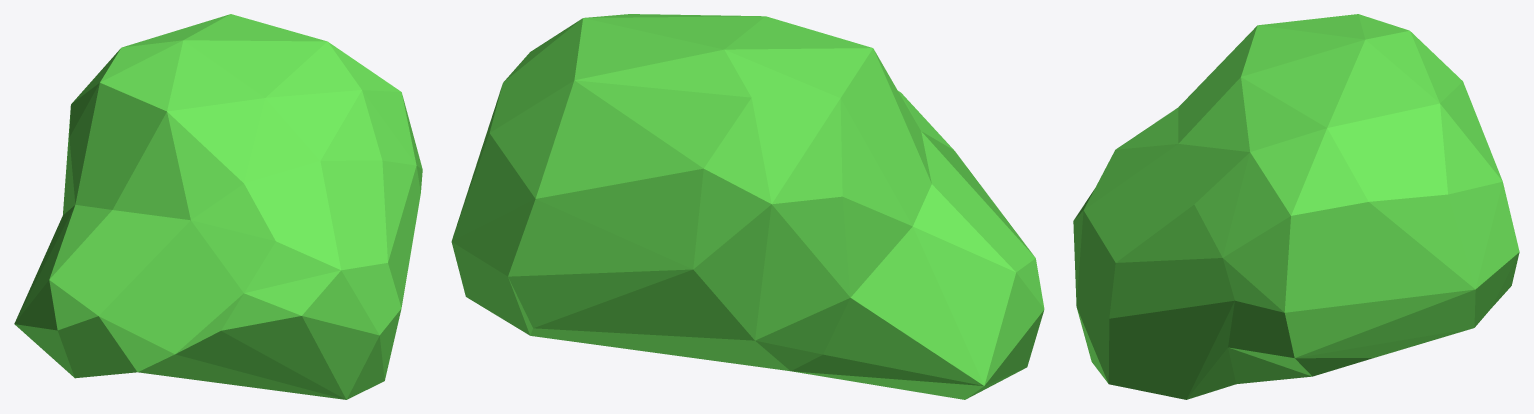
The model's file is 02 Shrub Large.fbx.
3 renders of one model, left to right at view 1: azimuth 30°, elevation 25°; view 2: azimuth 150°, elevation 25°; view 3: azimuth 270°, elevation 25°, orthographic. The views are drawn at different scales.
Parts seen in each view (by area): view 1: 02 Shrub Large; view 2: 02 Shrub Large; view 3: 02 Shrub Large.
Boxes of the visible parts, <box> form: 02 Shrub Large: <box>14,14,422,399</box>; 02 Shrub Large: <box>451,14,1044,399</box>; 02 Shrub Large: <box>1073,14,1519,399</box>.
Bounding box in the file's own units: 103 × 70.59 × 93.61.
